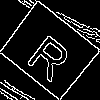R: (24, 25, 80, 84)
